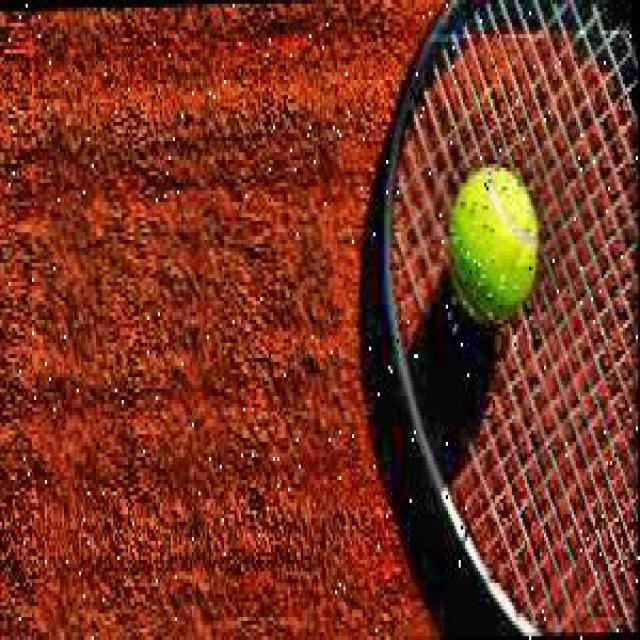tennis-ball: (439, 168, 544, 354)
